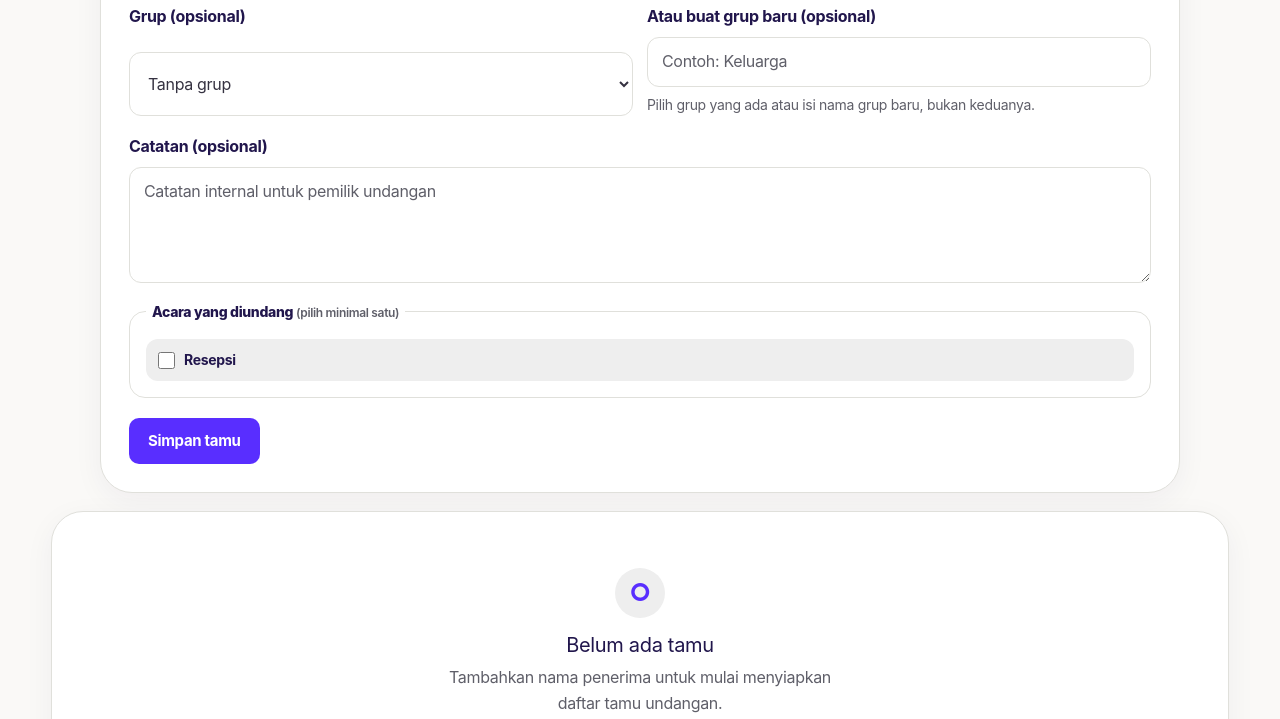
it: GuestsManager › shows the add-guest form and clear owner-facing fields
The image size is (1280, 719).
(page scrolled)
Expected: the dropdown labelled "Grup (opsional)" is shown, [129, 52, 633, 116]
Step 1. Click the checkbox labelled "Resepsi" → coordinates (166, 360), box [158, 352, 175, 369]
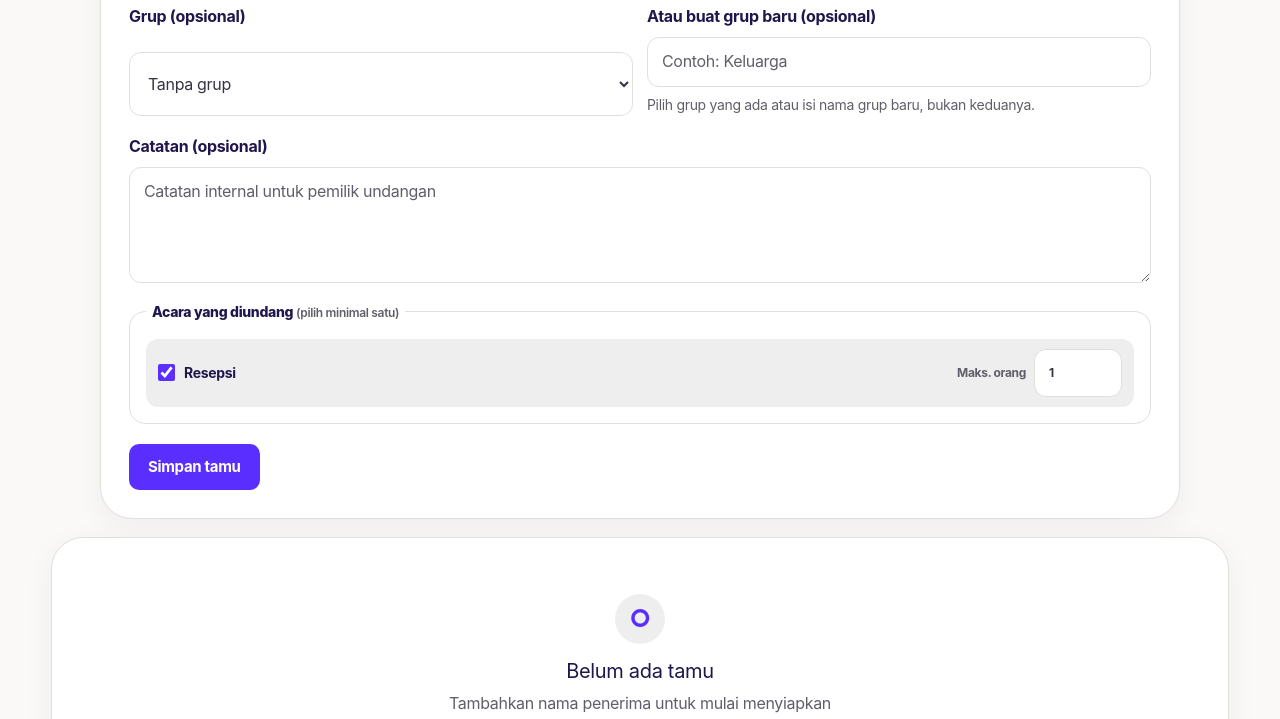
Expected: the button "Simpan tamu" is shown, [129, 444, 260, 490]
Now the number field named "Maksimal orang untuk Resepsi" holds "1", box [1034, 349, 1122, 397]
